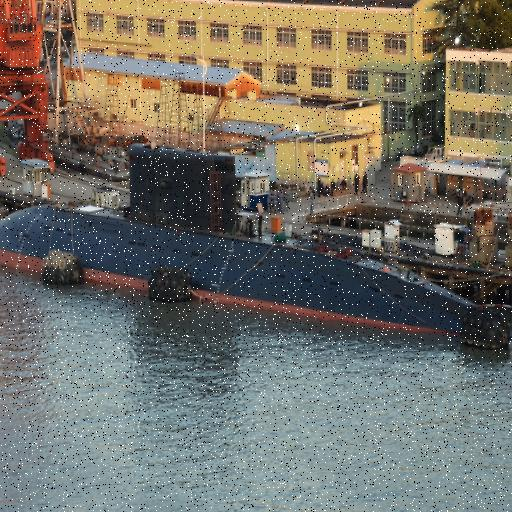submarine: (1, 150, 512, 343)
